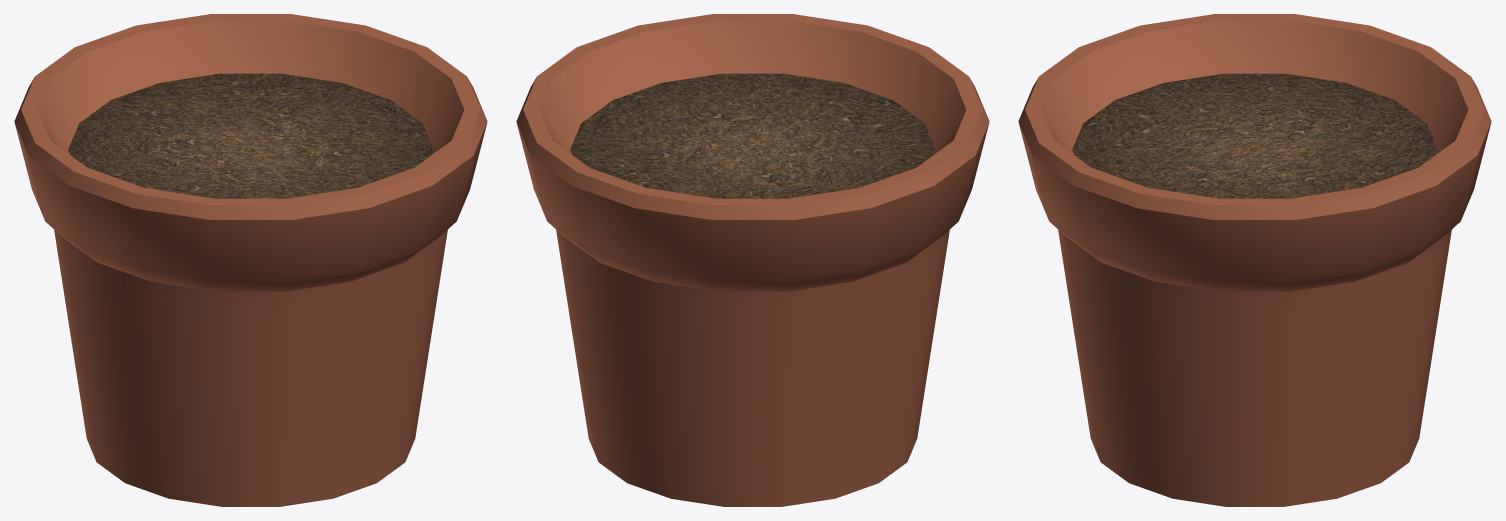
The picture shows the model from 3 angles, left to right: view 1: azimuth 30°, elevation 25°; view 2: azimuth 150°, elevation 25°; view 3: azimuth 270°, elevation 25°; orthographic projection.
Parts seen in each view (by area): view 1: Plant Pot_0; view 2: Plant Pot_0; view 3: Plant Pot_0.
Boxes of the visible parts, x1,y1,x2,y2 form: Plant Pot_0: [14, 14, 487, 506]; Plant Pot_0: [516, 14, 989, 506]; Plant Pot_0: [1018, 14, 1491, 506].
Size of the model in its own units: 0.4345 by 0.3383 by 0.4412.
Materials: 1 (1 with a texture image).
